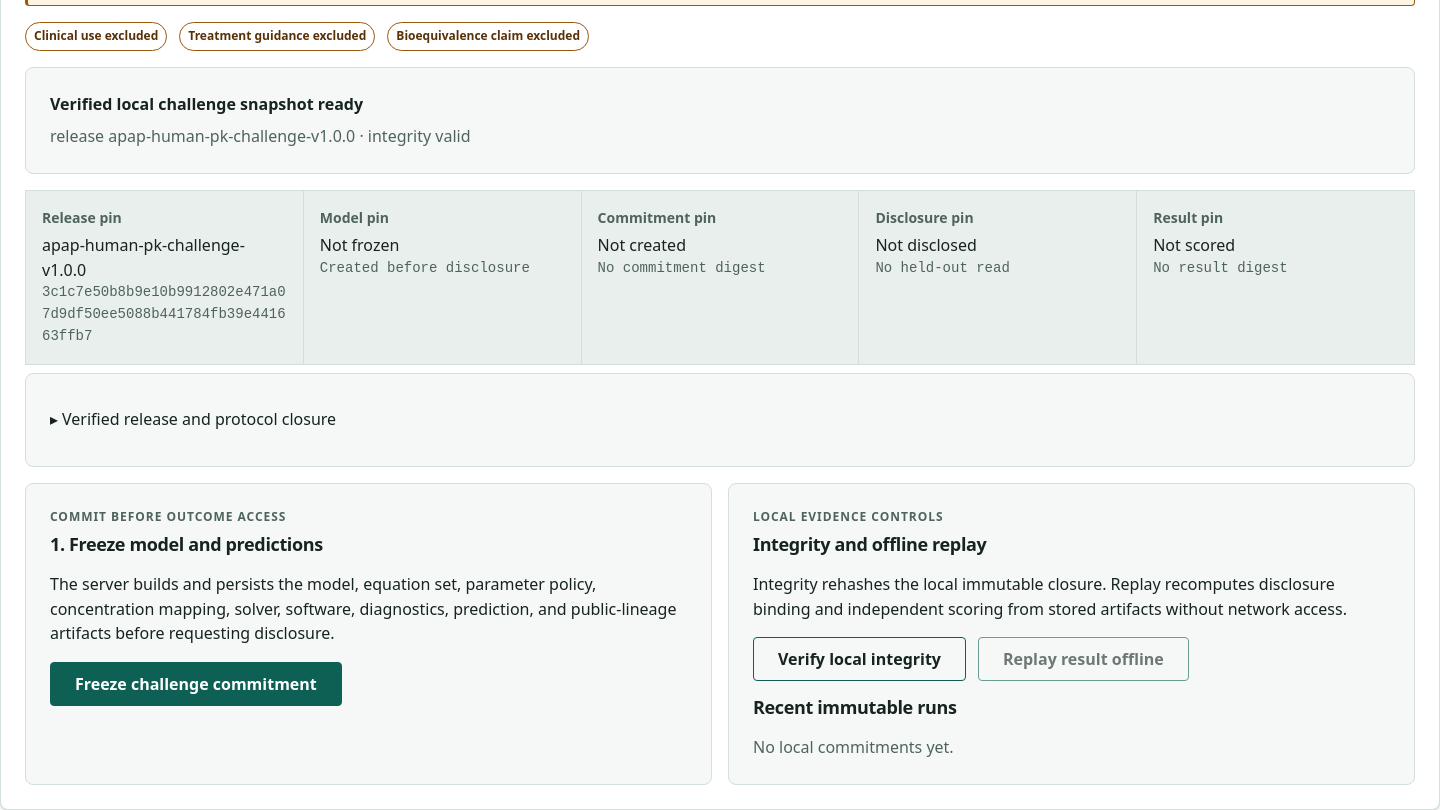
Test case: ChallengeWorkbench › does not render measured values, uncertainty, scores, or result before explicit disclosure
(page scrolled)
Click the button with test id "challenge-freeze" at (196, 684), box [50, 662, 342, 706]
(page scrolled)
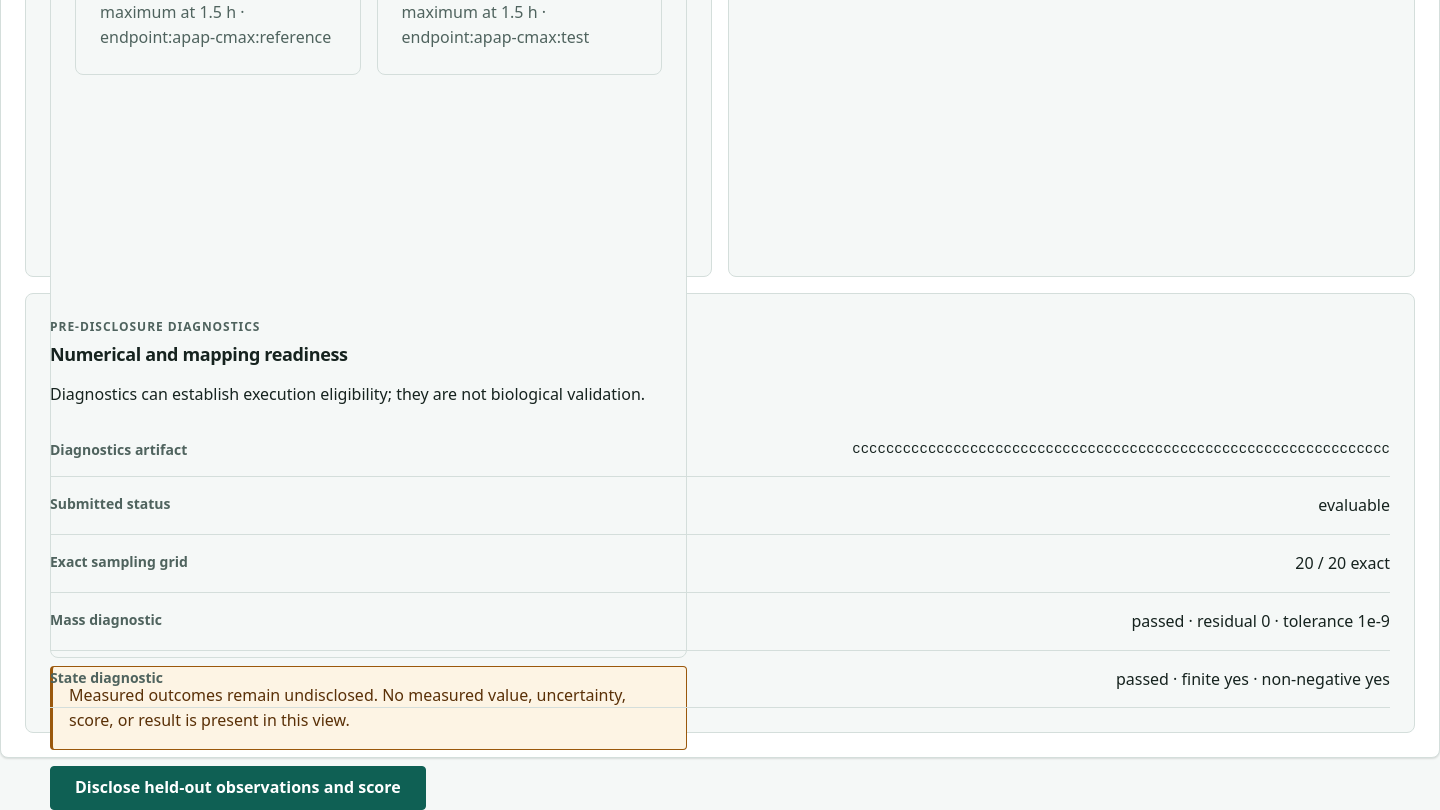
Expected: the text "Measured outcomes remain undisclosed" is shown, [69, 684, 626, 731]
